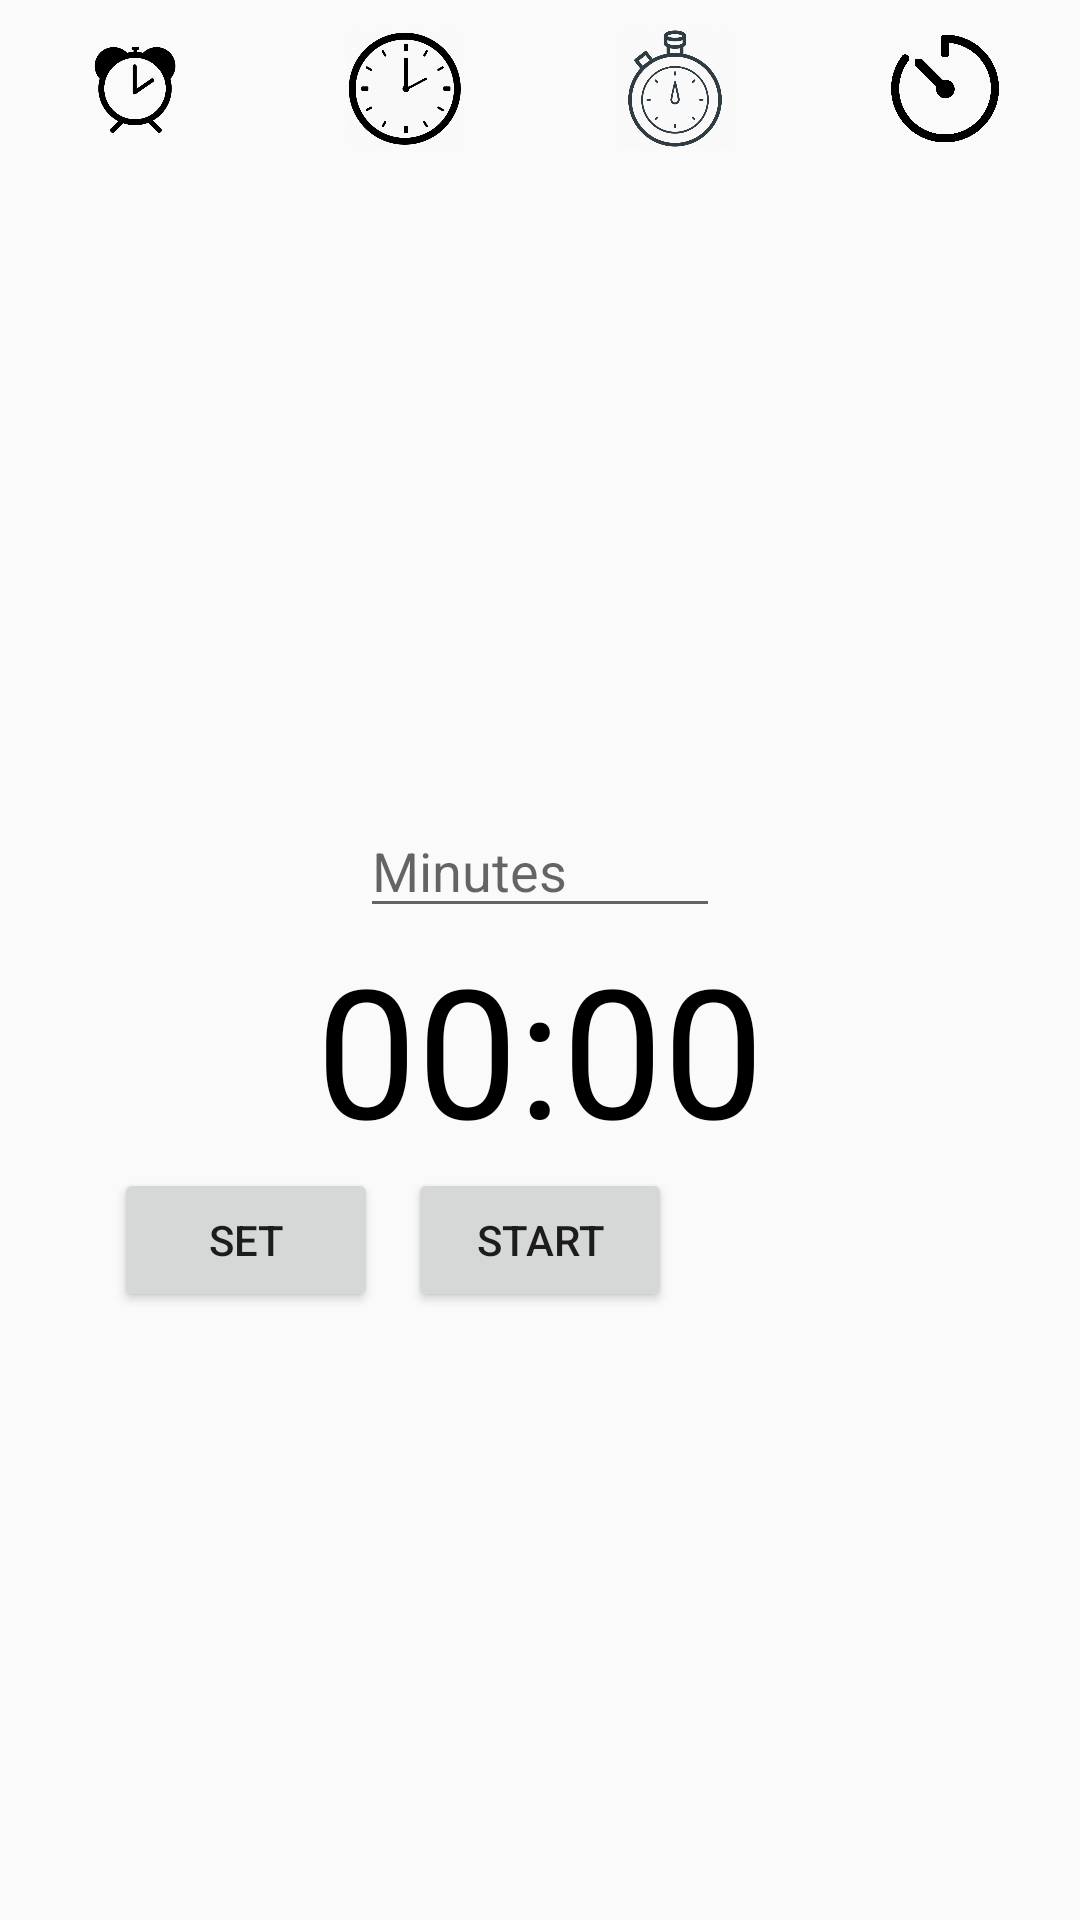

Icon click points for this 1080*1920 phone screenshot, format (x,y):
alarm nav: (135,90)
clock: (405,89)
stopwatch: (675,88)
timer: (945,88)
